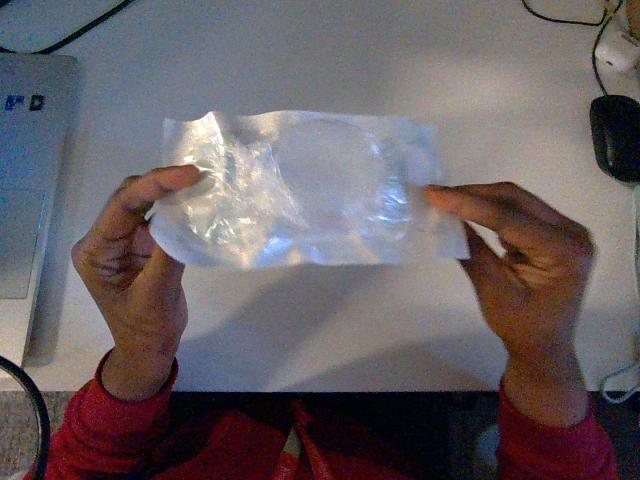gallipot: (150, 111, 467, 268)
